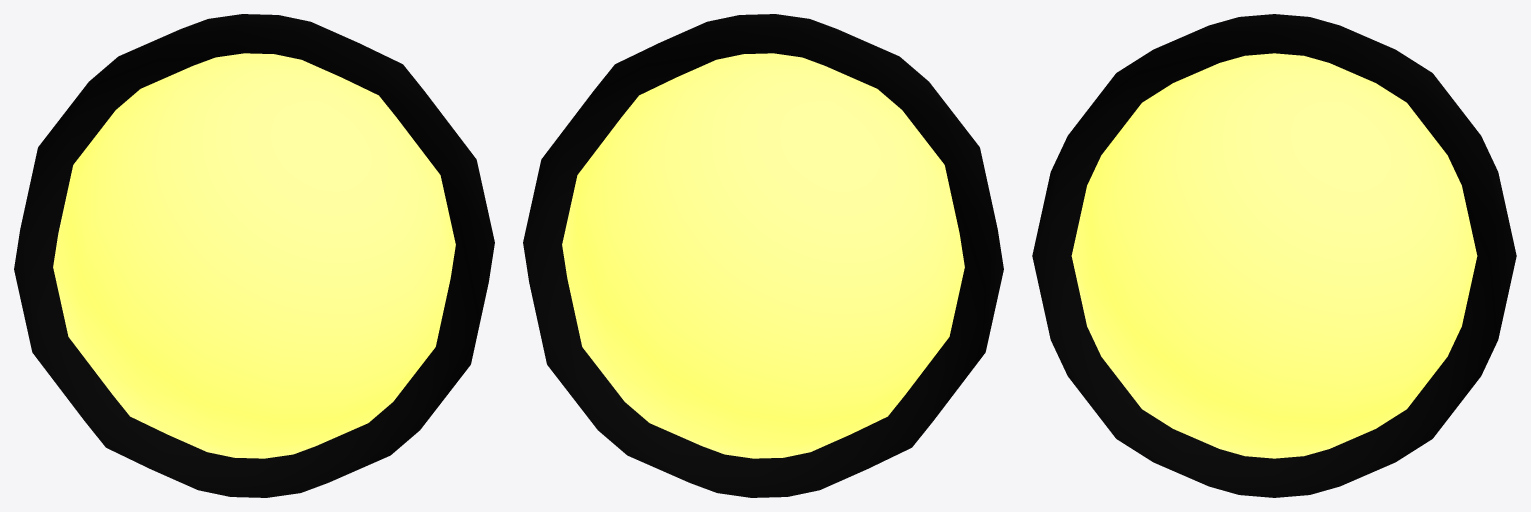
File: SqhereGem.fbx
3 views of the same model, side by side, from view 1: azimuth 30°, elevation 25°; view 2: azimuth 150°, elevation 25°; view 3: azimuth 270°, elevation 25° (orthographic).
Visible parts, largest first — view 1: Sphere, Sphere.001; view 2: Sphere, Sphere.001; view 3: Sphere, Sphere.001.
Part boxes in pixels (bbox=[...]): Sphere: bbox=[53, 53, 455, 458]; Sphere.001: bbox=[14, 14, 494, 497]; Sphere: bbox=[562, 53, 964, 458]; Sphere.001: bbox=[523, 14, 1003, 497]; Sphere: bbox=[1071, 53, 1477, 458]; Sphere.001: bbox=[1032, 14, 1516, 497].
Bounding box in the file's own units: 239 × 239 × 239.
